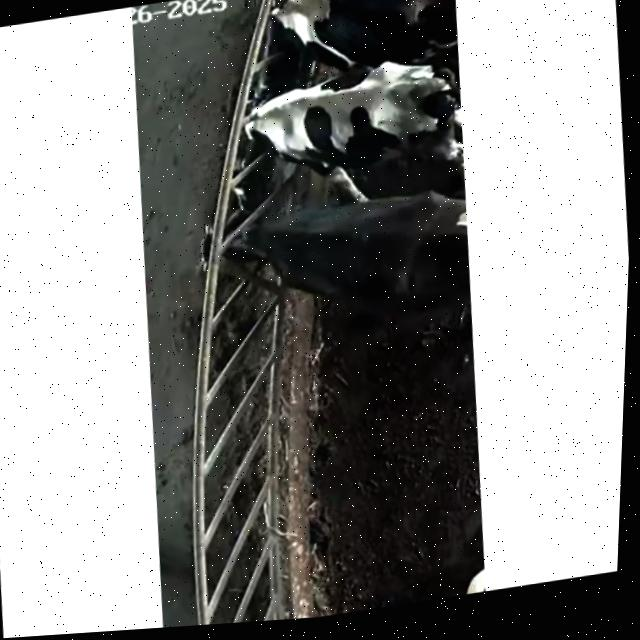eat: (183, 180, 375, 312), (193, 71, 357, 181), (207, 0, 397, 82)
